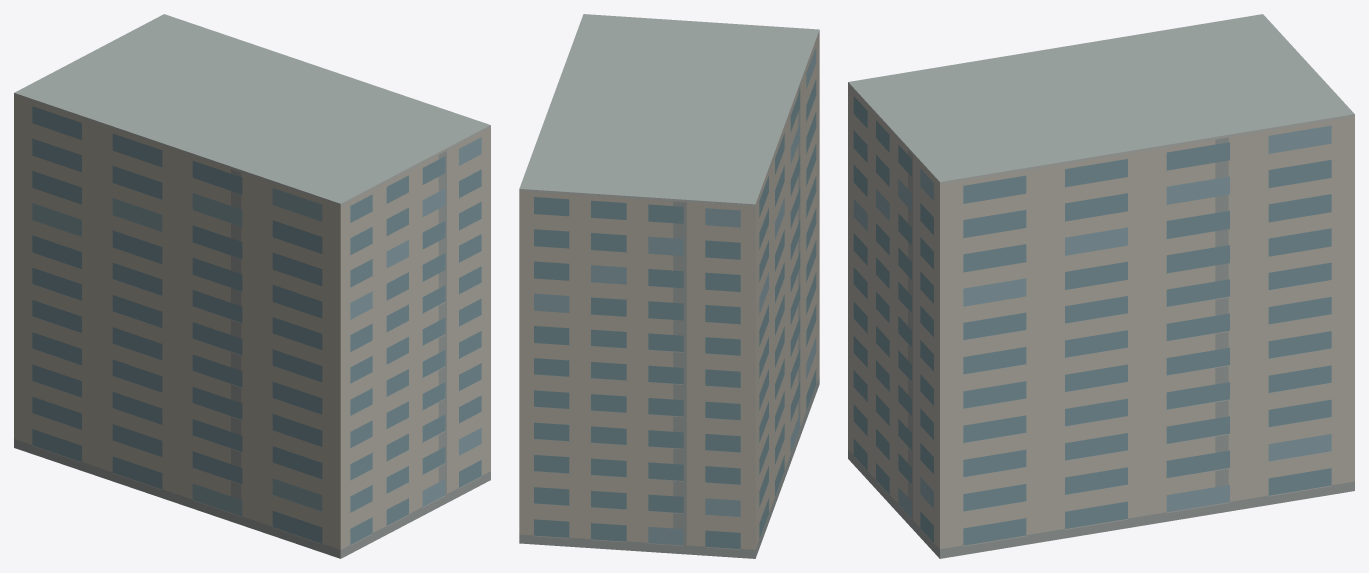
Rendered from residential-102e081f-3b42-48c2-883c-9c97cc8c508b.glb.
3 views of the same model, side by side, from view 1: azimuth 30°, elevation 25°; view 2: azimuth 150°, elevation 25°; view 3: azimuth 270°, elevation 25° (orthographic). The views are drawn at different scales.
Visible parts, largest first — view 1: residential-102e081f-3b42-48c2-883c-9c97cc8c508b.tmp; view 2: residential-102e081f-3b42-48c2-883c-9c97cc8c508b.tmp; view 3: residential-102e081f-3b42-48c2-883c-9c97cc8c508b.tmp.
Part boxes in pixels (bbox=[...]): residential-102e081f-3b42-48c2-883c-9c97cc8c508b.tmp: bbox=[14, 14, 490, 558]; residential-102e081f-3b42-48c2-883c-9c97cc8c508b.tmp: bbox=[519, 14, 819, 558]; residential-102e081f-3b42-48c2-883c-9c97cc8c508b.tmp: bbox=[848, 14, 1354, 558].
Bounding box in the file's own units: 33.48 × 35 × 42.66.
